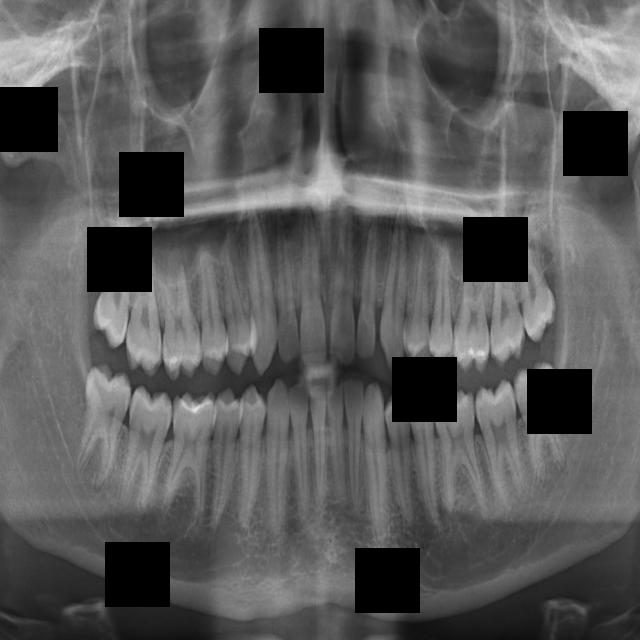3M ESPE Implant: (85, 204, 151, 352)
AGS Medikal Implant: (356, 211, 379, 361)
AMerOss Implant: (378, 196, 410, 372)
Amalgam filling: (406, 228, 434, 373)
Anthogyr Implant: (429, 234, 453, 373)
Bicon Implant: (451, 250, 495, 373)
BioHorizons Implant: (490, 243, 526, 367)
BioLife Implant: (506, 222, 562, 345)
Biomet 3i Implant: (509, 356, 580, 489)
Blue Sky Bio Implant: (469, 377, 537, 514)
Camlog Implant: (431, 385, 485, 519)
Caries: (123, 234, 162, 379)
Composite filling: (408, 385, 441, 532)
Cowellmedi Implant: (383, 387, 417, 530)
Crown: (360, 380, 392, 547)
DENTSPLY Implant: (342, 374, 364, 517)
Dentatus Implant: (326, 378, 348, 512)
Dentis Implant: (309, 376, 326, 505)
Dentium Implant: (288, 378, 310, 519)
Euroteknika Implant: (265, 377, 290, 541)
Filling: (232, 383, 266, 534)
Frontier Implant: (197, 385, 244, 539)
Hiossen Implant: (153, 255, 204, 382)
Implant: (117, 384, 174, 521)
Implant Direct: (161, 387, 216, 515)
Keystone Dental Implant: (59, 358, 137, 492)
MIS Implant: (199, 248, 224, 376)
Mandible: (220, 243, 251, 377)
Maxilla: (243, 196, 279, 377)
Megagen Implant: (276, 208, 298, 364)
Neodent Implant: (299, 203, 326, 370)
Neoss Implant: (329, 195, 356, 367)
